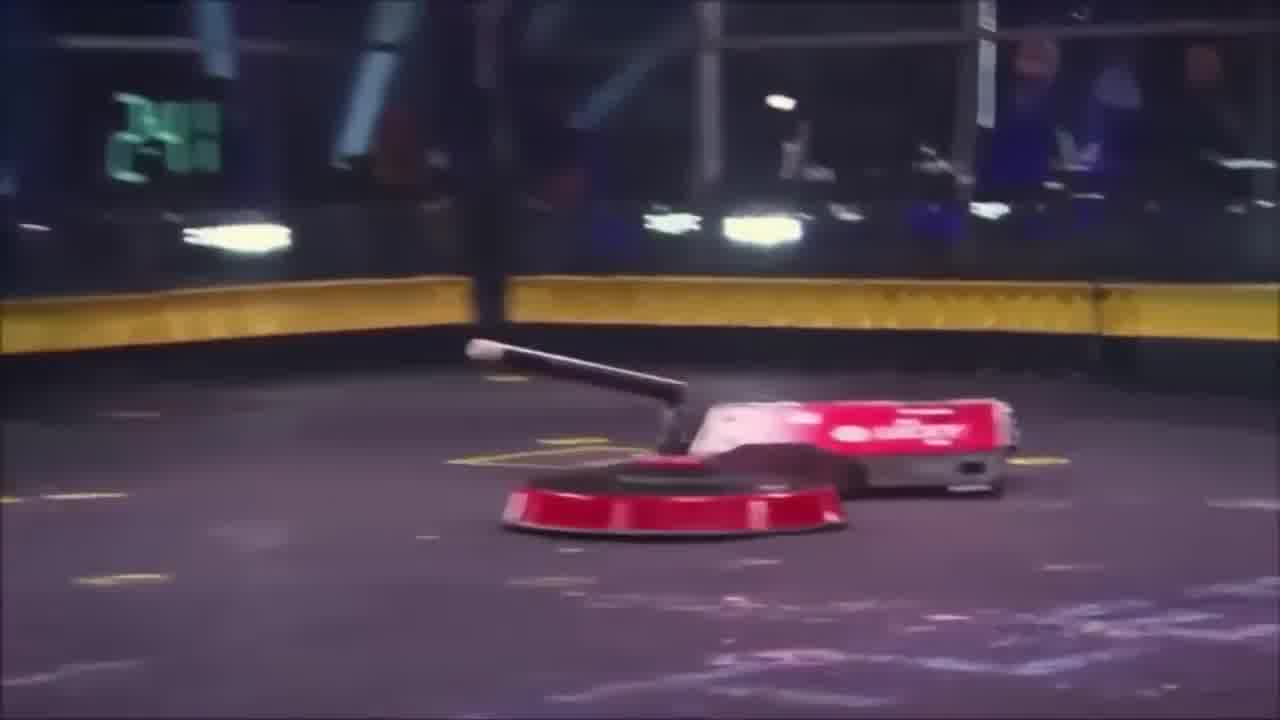combatbot: (653, 391, 1023, 502), (488, 467, 850, 545)
